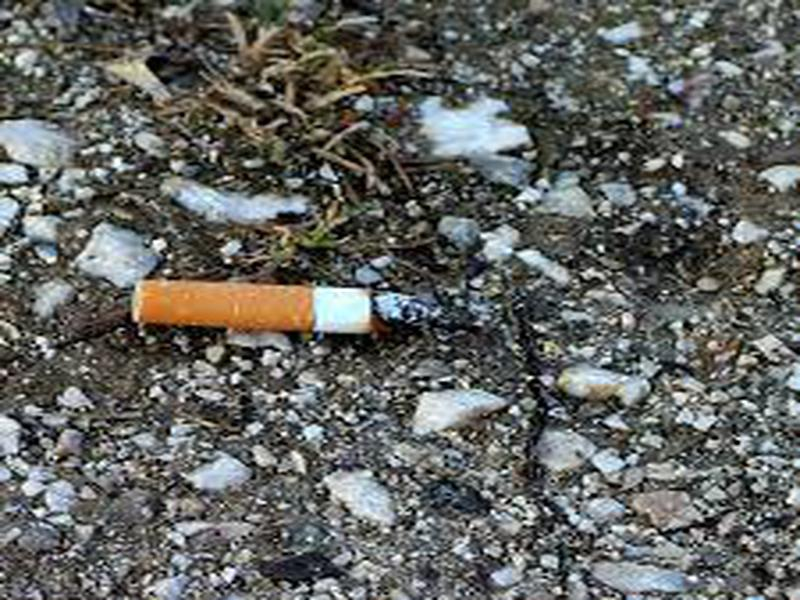burned_cigarette: (121, 266, 430, 340)
